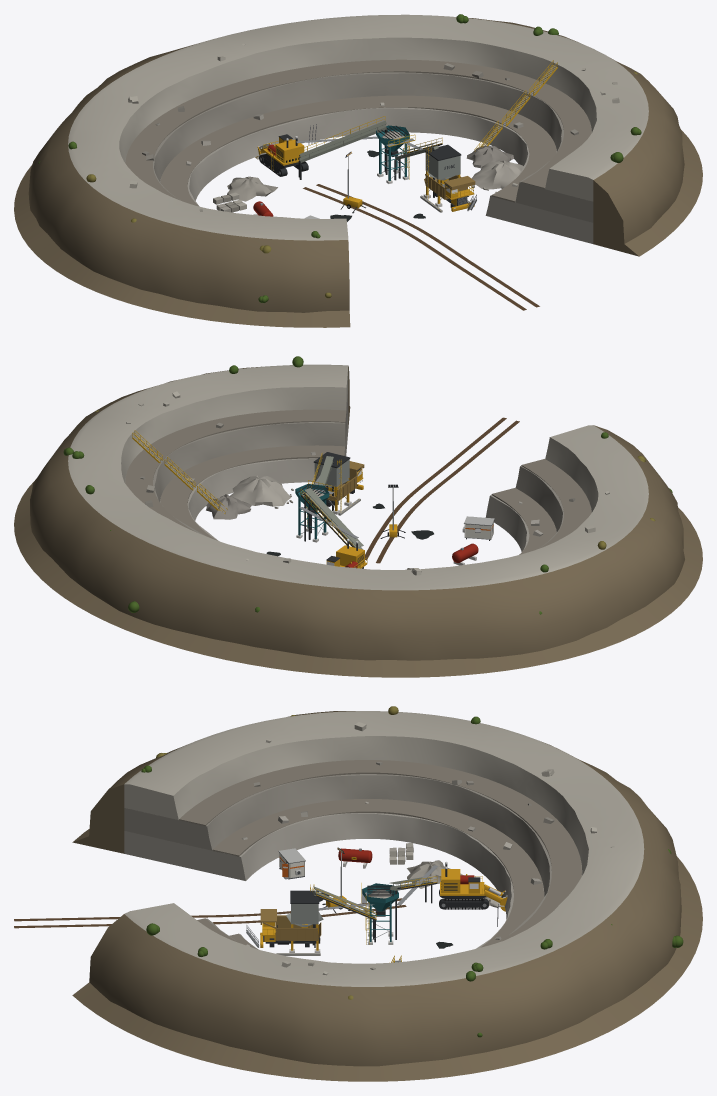
File: strip-mine-stone.glb
The picture shows the model from 3 angles, top to bottom: view 1: azimuth 30°, elevation 25°; view 2: azimuth 150°, elevation 25°; view 3: azimuth 270°, elevation 25°; orthographic projection. The views are drawn at different scales.
Visible parts, largest first — view 1: C0_0_lod0, C0_-1_lod0, C-1_0_lod0; view 2: C0_0_lod0, C0_-1_lod0, C-1_0_lod0, C-1_-1_lod0; view 3: C0_0_lod0, C-1_0_lod0, C0_-1_lod0, C-1_-1_lod0.
Boxes of the visible parts, <box> form: C0_0_lod0: <box>14,14,702,327</box>; C0_-1_lod0: <box>420,127,638,212</box>; C-1_0_lod0: <box>128,96,364,216</box>; C0_0_lod0: <box>14,364,702,677</box>; C0_-1_lod0: <box>216,356,364,515</box>; C-1_0_lod0: <box>326,484,478,575</box>; C-1_-1_lod0: <box>397,432,645,540</box>; C0_0_lod0: <box>14,711,702,1081</box>; C-1_0_lod0: <box>326,769,554,913</box>; C0_-1_lod0: <box>146,884,325,956</box>; C-1_-1_lod0: <box>141,753,328,907</box>.
Size of what is drawn, in the model's own units: 122 by 14.85 by 109.
